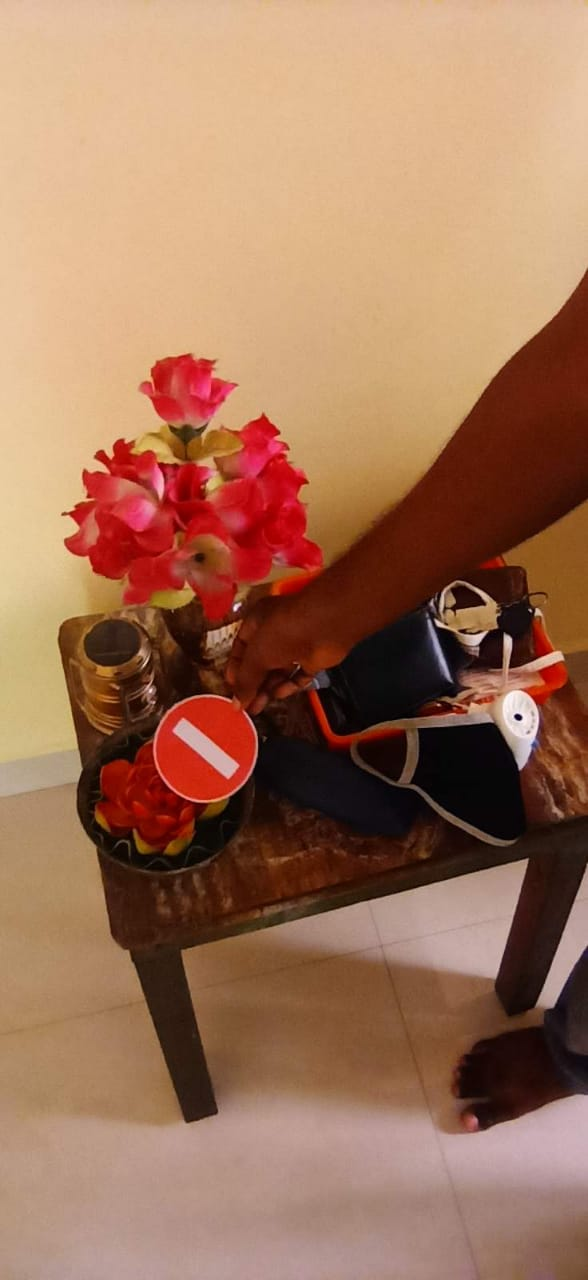NO ENTRY: (132, 677, 273, 825)
